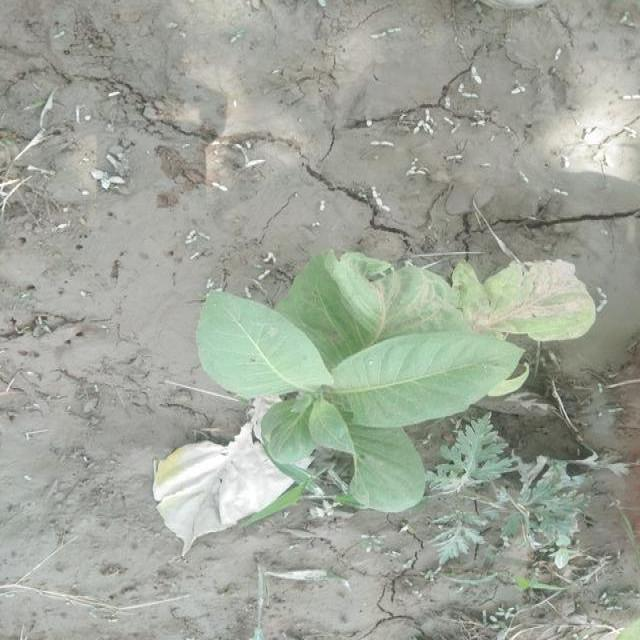crop: (156, 254, 596, 532)
